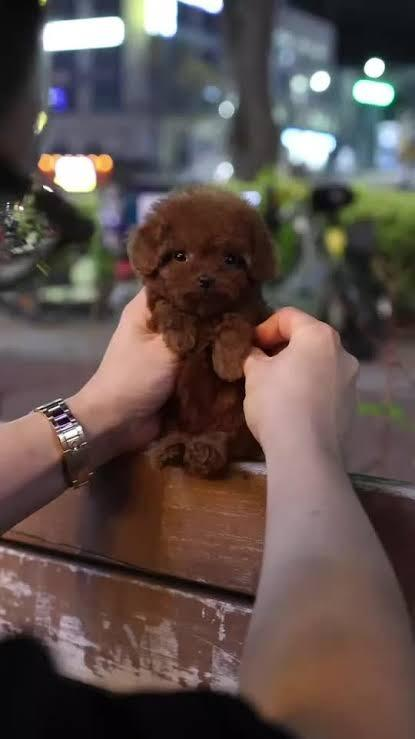puppy-dog: (127, 185, 280, 478)
